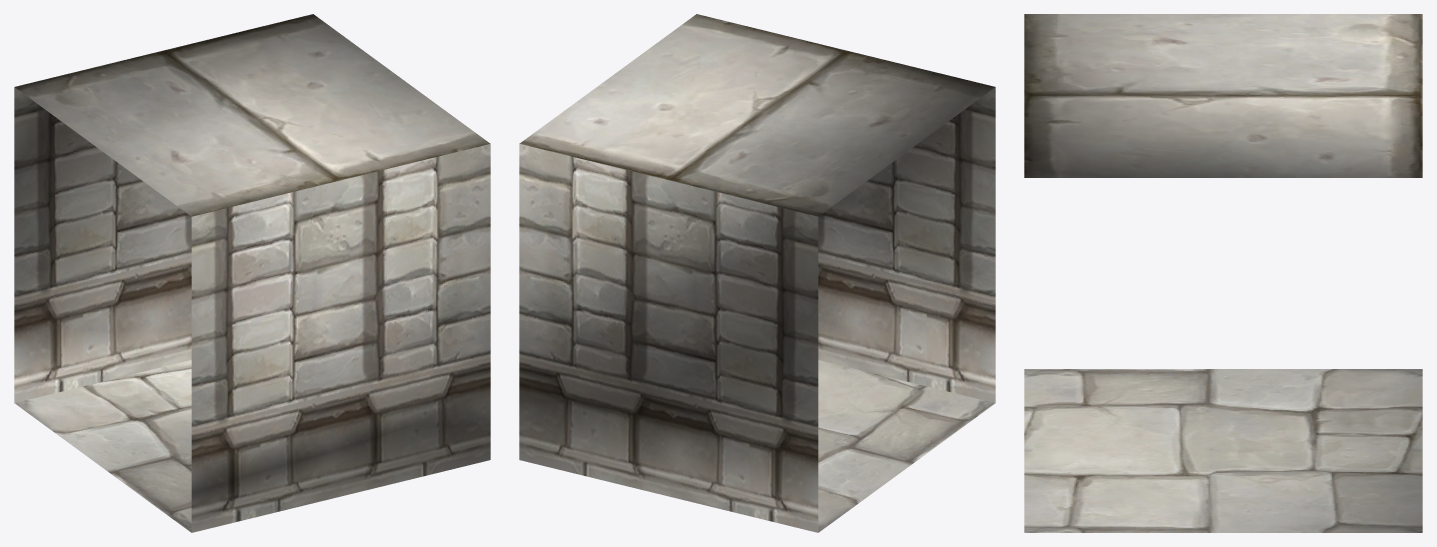
Rendered from stormwind_205.fbx.
3 views of the same model, side by side, from view 1: azimuth 30°, elevation 25°; view 2: azimuth 150°, elevation 25°; view 3: azimuth 270°, elevation 25° (orthographic). The views are drawn at different scales.
Parts seen in each view (by area): view 1: stormwind_205_60, stormwind_205_40, stormwind_205_52; view 2: stormwind_205_60, stormwind_205_40, stormwind_205_52; view 3: stormwind_205_40, stormwind_205_52.
Boxes of the visible parts, x1,y1,x2,y2 form: stormwind_205_60: (14, 87, 490, 532); stormwind_205_40: (15, 14, 490, 216); stormwind_205_52: (14, 360, 191, 532); stormwind_205_60: (519, 87, 995, 532); stormwind_205_40: (519, 14, 994, 216); stormwind_205_52: (818, 360, 995, 532); stormwind_205_40: (1024, 14, 1422, 177); stormwind_205_52: (1024, 369, 1422, 532).
Size of the model in its own units: 6.56 by 6.63 by 6.73.
